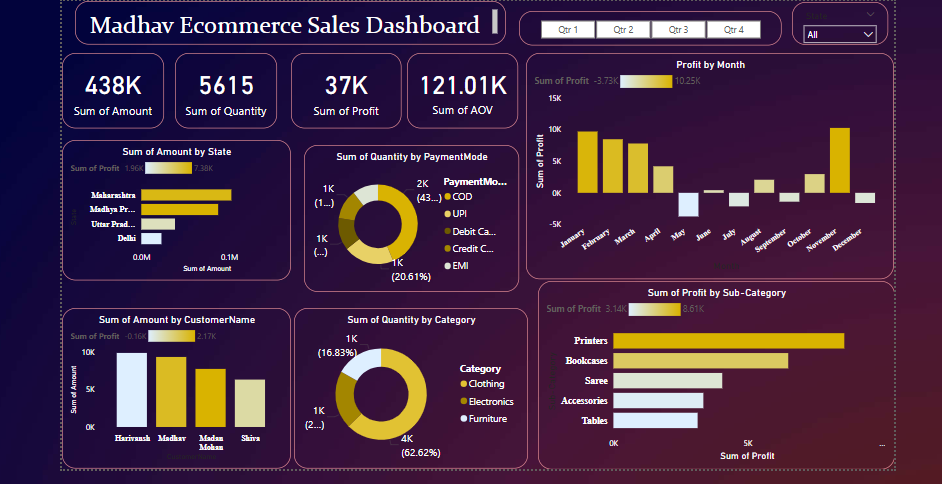

Layout of this report page (visuals, bound fields, positions):
{"tool":"powerbi","page":{"name":"Page 1","canvas":[1280,720],"ordinal":0},"visuals":[{"type":"textbox","box":[19.6,0,662.9,67.1],"z":0},{"type":"columnChart","title":"Profit by Month","fields":{"Y":["Details.Profit"],"Category":["Orders.Order Date.Variation.Date Hierarchy.Month"]},"box":[714.1,80.5,566.3,348.3],"z":1000},{"type":"barChart","fields":{"Category":["Orders.State"],"Y":["Details.Amount"]},"box":[0,214.4,351.9,216.1],"z":2000},{"type":"donutChart","fields":{"Category":["Details.Category"],"Y":["Details.Quantity"]},"box":[356.8,473,360.1,247.2],"z":3000},{"type":"donutChart","fields":{"Y":["Details.Quantity"],"Category":["Details.PaymentMode"]},"box":[371.6,221,330.6,225.9],"z":4000},{"type":"card","fields":{"Values":["Details.Amount"]},"box":[0,80.5,156.6,115.6],"z":5000},{"type":"card","fields":{"Values":["Details.Quantity"]},"box":[174.1,80.5,156.6,115.6],"z":6000},{"type":"card","fields":{"Values":["Details.Profit"]},"box":[352.7,80.5,169.8,115.6],"z":7000},{"type":"card","fields":{"Values":["Details.AOV"]},"box":[531.2,80.5,171.2,115.6],"z":8000},{"type":"barChart","fields":{"Category":["Details.Sub-Category"],"Y":["Details.Profit"]},"box":[731.7,430.2,548.8,289.8],"z":9000},{"type":"columnChart","fields":{"Category":["Orders.CustomerName"],"Y":["Details.Amount"]},"box":[0,473,351.9,247.2],"z":10000},{"type":"slicer","fields":{"Values":["Orders.Order Date.Variation.Date Hierarchy.Quarter"]},"box":[702.4,14.6,403.9,52.7],"z":11000},{"type":"slicer","fields":{"Values":["Orders.State"]},"box":[1122.4,1.5,147.8,65.9],"z":12000}]}

Visuals, with their boxes on the page's 1280x720 design canvas (x1, y1, x2, y2). These are canvas units, not pixel positions in the 942x484 screenshot, which may show the page scaled, cropped or inside an application window:
textbox: bbox=(20, 0, 682, 67)
"Profit by Month" columnChart: bbox=(714, 80, 1280, 429)
barChart - Orders.State x Details.Amount: bbox=(0, 214, 352, 430)
donutChart - Details.Category x Details.Quantity: bbox=(357, 473, 717, 720)
donutChart - Details.Quantity x Details.PaymentMode: bbox=(372, 221, 702, 447)
card - Details.Amount: bbox=(0, 80, 157, 196)
card - Details.Quantity: bbox=(174, 80, 331, 196)
card - Details.Profit: bbox=(353, 80, 522, 196)
card - Details.AOV: bbox=(531, 80, 702, 196)
barChart - Details.Sub-Category x Details.Profit: bbox=(732, 430, 1280, 720)
columnChart - Orders.CustomerName x Details.Amount: bbox=(0, 473, 352, 720)
slicer - Orders.Order Date.Variation.Date Hierarchy.Quarter: bbox=(702, 15, 1106, 67)
slicer - Orders.State: bbox=(1122, 2, 1270, 67)
